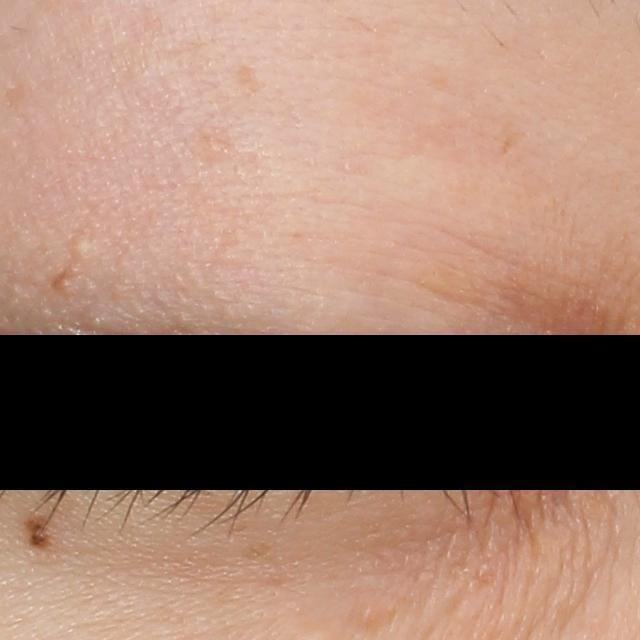melasma: (413, 258, 536, 319), (193, 129, 235, 163)
nevus: (15, 511, 51, 551)
